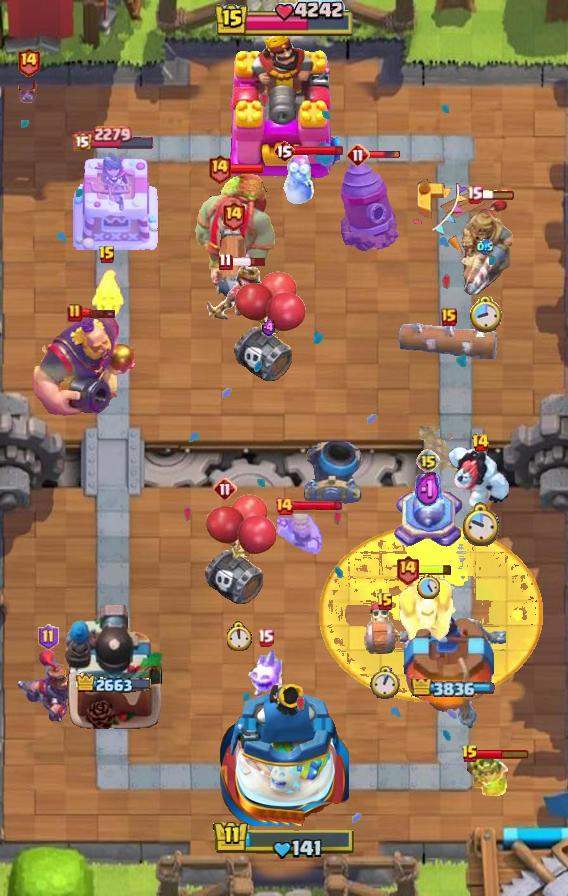archer: (274, 510, 324, 556)
barbarian-barrel: (15, 75, 41, 105)
bat-evolution: (89, 268, 125, 322)
battle-healer: (209, 229, 257, 305)
bomber-evolution: (205, 263, 269, 323), (460, 756, 508, 800)
clock: (212, 819, 356, 861), (213, 0, 355, 40)
electro-spirit: (415, 470, 441, 510), (261, 319, 277, 336), (477, 239, 493, 255)
elixir: (461, 502, 499, 548), (469, 296, 503, 334), (370, 666, 400, 700), (227, 621, 253, 651), (416, 574, 439, 599)
elixir-golem-big: (15, 648, 81, 728)
elixir-golem-small: (396, 568, 456, 646)
emote: (292, 144, 343, 157), (292, 499, 343, 512), (477, 748, 531, 760), (417, 564, 453, 577), (230, 256, 267, 268), (229, 163, 265, 175), (480, 189, 516, 201), (81, 307, 117, 319), (367, 150, 401, 160)
fisherman: (419, 427, 480, 473)
ice-golem: (282, 154, 316, 206)
king-tower: (219, 678, 349, 826), (228, 29, 340, 181)
knight: (360, 601, 410, 657)
lava-hound: (192, 168, 278, 280)
lightning: (30, 310, 137, 420)
magic-archer: (340, 159, 400, 253)
minion: (398, 323, 500, 359)
mirror: (245, 647, 285, 699)
musketeer: (302, 440, 362, 504)
phoenix-egg: (319, 524, 543, 702)
queen-tower: (400, 603, 506, 731), (67, 152, 161, 256)
rage: (447, 445, 513, 509)
ram-rider: (456, 197, 514, 297)
royal-recruit: (391, 469, 465, 553)
royal-recruit-evolution: (230, 271, 308, 385), (201, 494, 279, 608)
selected: (72, 125, 156, 151), (75, 672, 152, 696), (412, 679, 497, 697)
text: (16, 46, 41, 77), (222, 200, 247, 231), (396, 555, 421, 586), (208, 153, 233, 183), (346, 143, 370, 167), (416, 449, 440, 473), (213, 477, 237, 501), (37, 624, 59, 650), (273, 139, 295, 163), (274, 496, 294, 516), (470, 433, 489, 453), (98, 245, 116, 265), (376, 592, 394, 612), (461, 744, 479, 764), (257, 629, 275, 648), (465, 185, 483, 203), (67, 303, 83, 323), (441, 308, 457, 326), (218, 253, 233, 272)
tower-bar: (64, 601, 164, 731)
